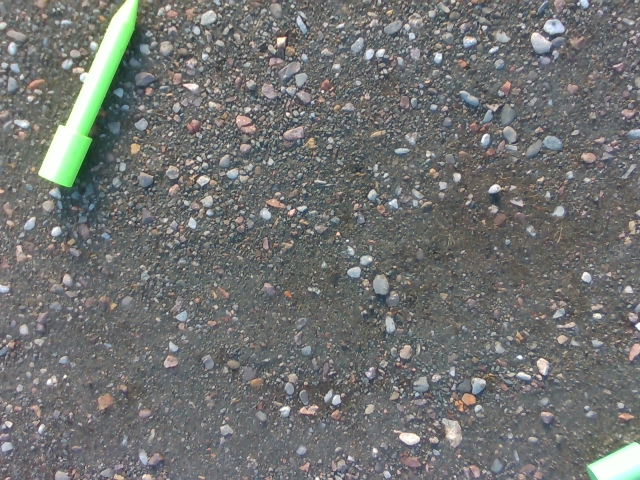Probe: (33, 1, 145, 191)
